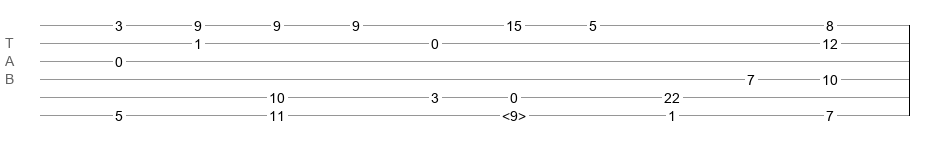0: (115, 54, 123, 64), (431, 36, 439, 46), (510, 90, 518, 100)
1: (194, 36, 202, 46), (668, 108, 676, 118)
10: (269, 90, 285, 100), (822, 72, 838, 82)
11: (269, 108, 285, 118)
12: (822, 36, 838, 46)
15: (506, 18, 522, 28)
22: (664, 90, 680, 100)
3: (115, 18, 123, 28), (431, 90, 439, 100)
5: (115, 108, 123, 118), (589, 18, 597, 28)
7: (747, 72, 755, 82), (826, 108, 834, 118)
8: (826, 18, 834, 28)
9: (194, 18, 202, 28), (273, 18, 281, 28), (352, 18, 360, 28)
harmonic: (502, 108, 526, 118)
